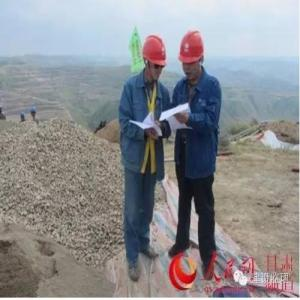red: (179, 31, 206, 82), (141, 36, 168, 82)
